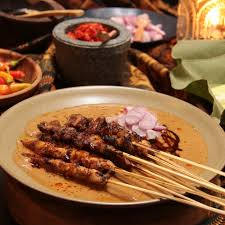sate: (12, 95, 195, 197)
